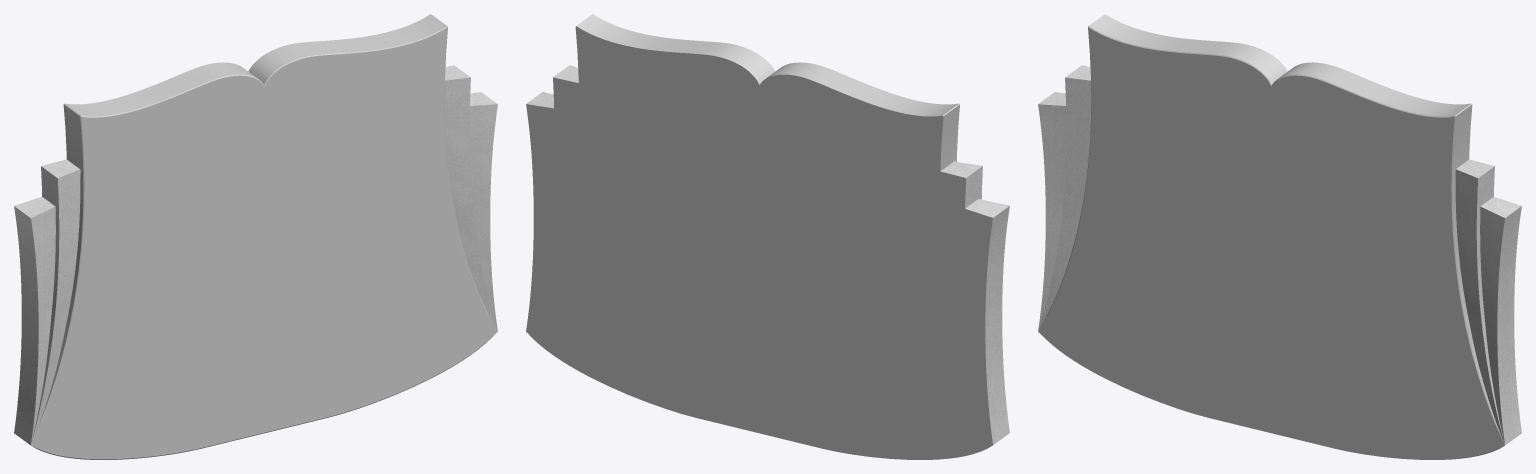
The model's file is cn337c04a554_tkf.glb.
3 renders of one model, left to right at view 1: azimuth 30°, elevation 25°; view 2: azimuth 150°, elevation 25°; view 3: azimuth 330°, elevation 25°, orthographic.
Parts seen in each view (by area): view 1: Pam-g-104-2, Pam-g-104-2_2_notexture; view 2: Pam-g-104-2, Pam-g-104-2_2_notexture; view 3: Pam-g-104-2, Pam-g-104-2_2_notexture.
Boxes of the visible parts, bbox=[...] form: Pam-g-104-2: bbox=[31, 14, 497, 459]; Pam-g-104-2_2_notexture: bbox=[14, 65, 497, 445]; Pam-g-104-2: bbox=[526, 14, 992, 459]; Pam-g-104-2_2_notexture: bbox=[526, 65, 1009, 444]; Pam-g-104-2: bbox=[1038, 14, 1504, 459]; Pam-g-104-2_2_notexture: bbox=[1038, 65, 1521, 445].
Bounding box in the file's own units: 0.8 × 0.6 × 0.05.
1 material, 1 textured.
